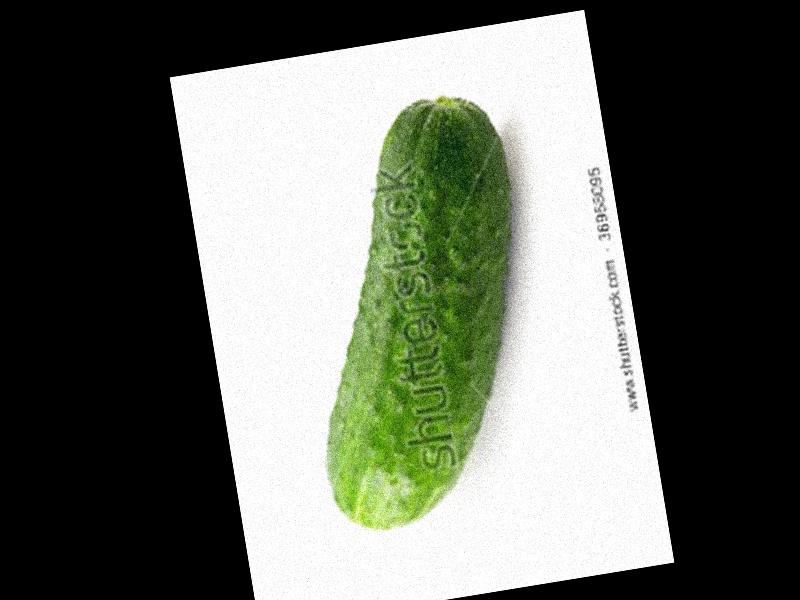Cucumber: (269, 88, 563, 537)
